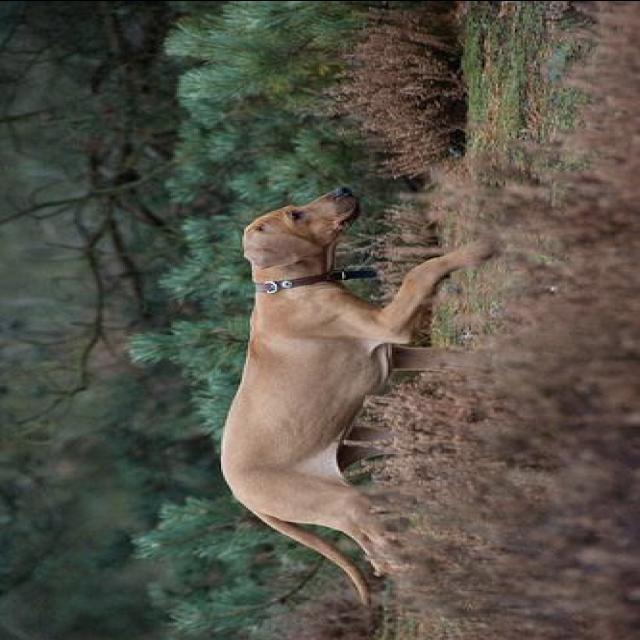rhodesian_ridgeback: (219, 185, 502, 606)
